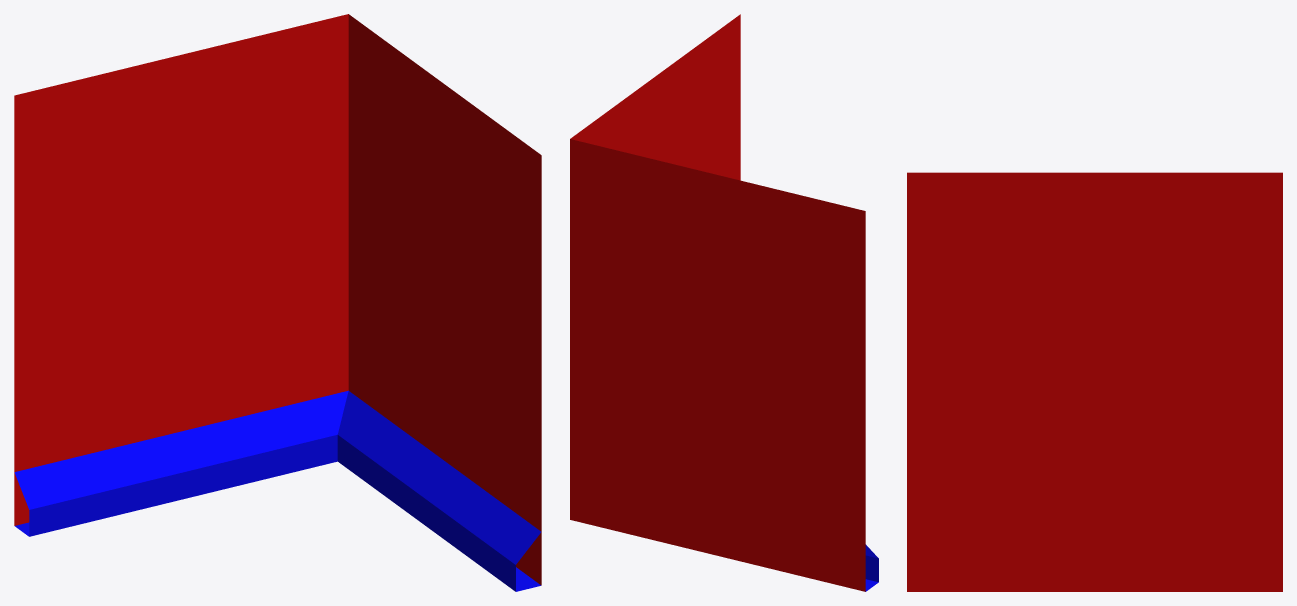
3 renders of one model, left to right at view 1: azimuth 30°, elevation 25°; view 2: azimuth 150°, elevation 25°; view 3: azimuth 270°, elevation 25°, orthographic. The views are drawn at different scales.
Visible parts, largest first — view 1: None_G_G_A_A_G_G_A_E_None; view 2: None_G_G_A_A_G_G_A_E_None; view 3: None_G_G_A_A_G_G_A_E_None.
Part boxes in pixels (x1=…): None_G_G_A_A_G_G_A_E_None: x1=14, y1=14, x2=541, y2=591; None_G_G_A_A_G_G_A_E_None: x1=570, y1=14, x2=878, y2=591; None_G_G_A_A_G_G_A_E_None: x1=907, y1=172, x2=1282, y2=591.
Bounding box in the file's own units: 40.62 × 50 × 40.63.
